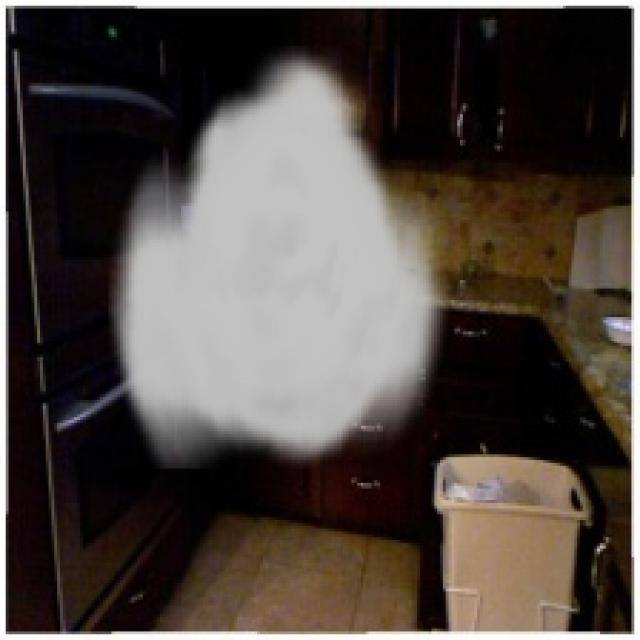Smoke: (108, 46, 454, 468)
